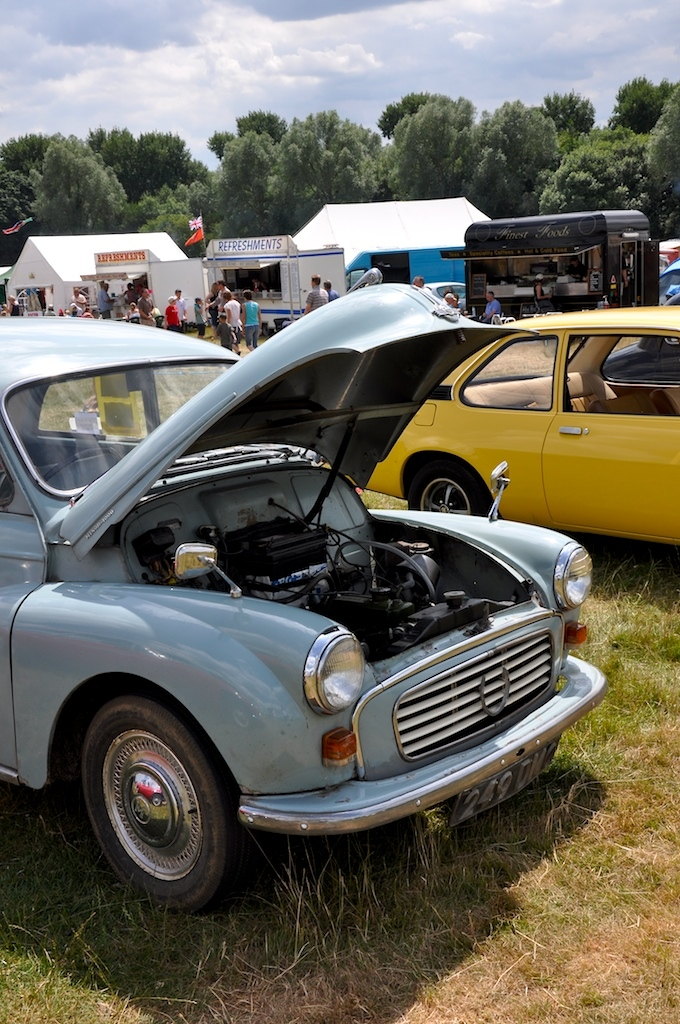Car: (0, 241, 678, 915), (358, 305, 678, 547), (416, 282, 464, 314)
